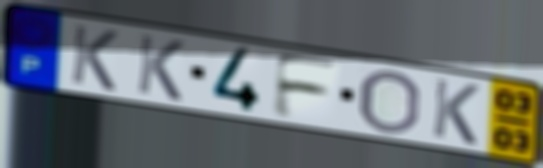4: (209, 44, 265, 116)
F: (269, 50, 343, 122)
K: (67, 22, 121, 95), (429, 75, 483, 148), (134, 31, 187, 105)
O: (355, 67, 424, 136)
